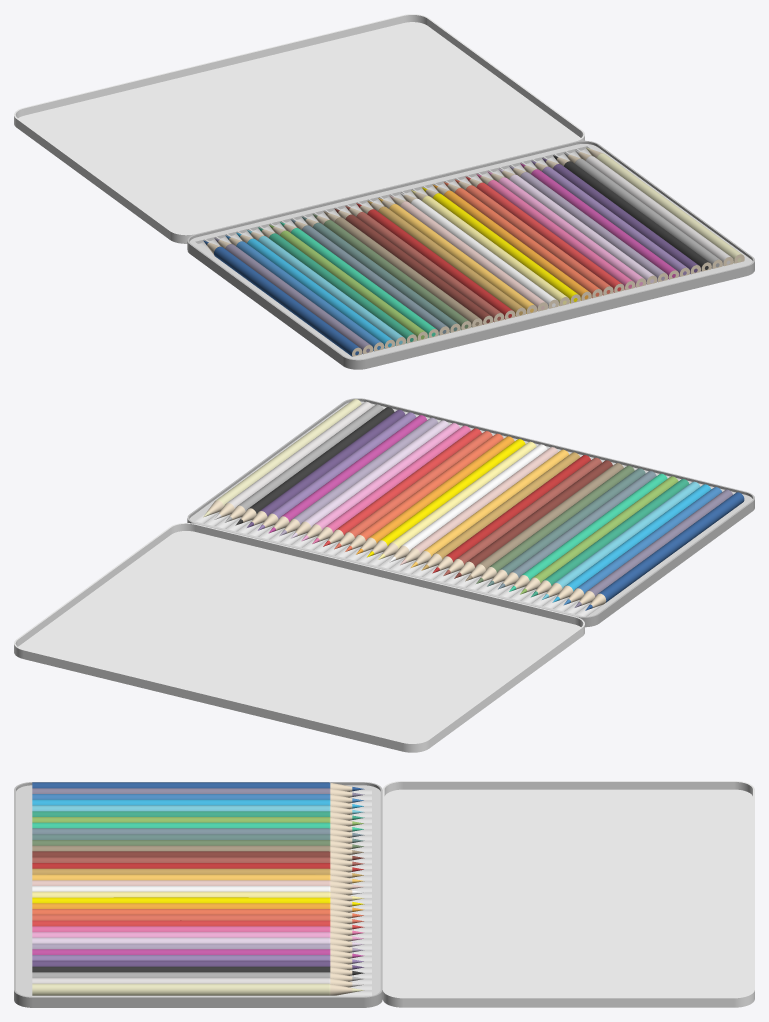
Rendered from 181_色鉛筆36色セット.glb.
3 views of the same model, one above another, from view 1: azimuth 30°, elevation 25°; view 2: azimuth 150°, elevation 25°; view 3: azimuth 270°, elevation 25° (orthographic). The views are drawn at different scales.
Visible parts, largest first — view 1: ふた, トレー, 01, 12, 24, 27, 03, 28, 02, 09, 10, 11 (+26 smaller); view 2: ふた, トレー, 01, 11, 24, 14, 21, 04, 05, 09, 10, 12 (+26 smaller); view 3: ふた, トレー, 36, 01, 05, 09, 13, 17, 21, 25, 29, 33 (+26 smaller).
Part boxes in pixels (box(x1,y1,x2,y2)): ふた: box(14, 14, 584, 243); トレー: box(187, 140, 754, 369); 01: box(203, 240, 362, 356); 12: box(323, 211, 482, 327); 24: box(454, 179, 613, 295); 27: box(487, 171, 646, 287); 03: box(225, 235, 384, 351); 28: box(498, 168, 657, 284); 02: box(214, 238, 373, 354); 09: box(290, 219, 449, 335); 10: box(301, 216, 460, 332); 11: box(312, 214, 471, 330); ふた: box(14, 523, 584, 752); トレー: box(187, 398, 754, 627); 01: box(585, 492, 744, 610); 11: box(476, 465, 634, 583); 24: box(334, 431, 492, 549); 14: box(443, 457, 601, 575); 21: box(367, 439, 525, 557); 04: box(552, 484, 711, 602); 05: box(542, 481, 700, 599); 09: box(498, 471, 656, 589); 10: box(487, 468, 645, 586); 12: box(465, 463, 623, 581); ふた: box(382, 781, 754, 1007); トレー: box(14, 782, 382, 1007); 36: box(32, 983, 363, 995); 01: box(32, 782, 364, 791); 05: box(32, 805, 364, 814); 09: box(32, 828, 364, 837); 13: box(32, 851, 364, 860); 17: box(32, 874, 364, 883); 21: box(32, 897, 364, 906); 25: box(32, 920, 364, 929); 29: box(32, 943, 364, 952); 33: box(32, 966, 364, 975).
Bounding box in the file's own units: 0.272 × 0.00962 × 0.392.
